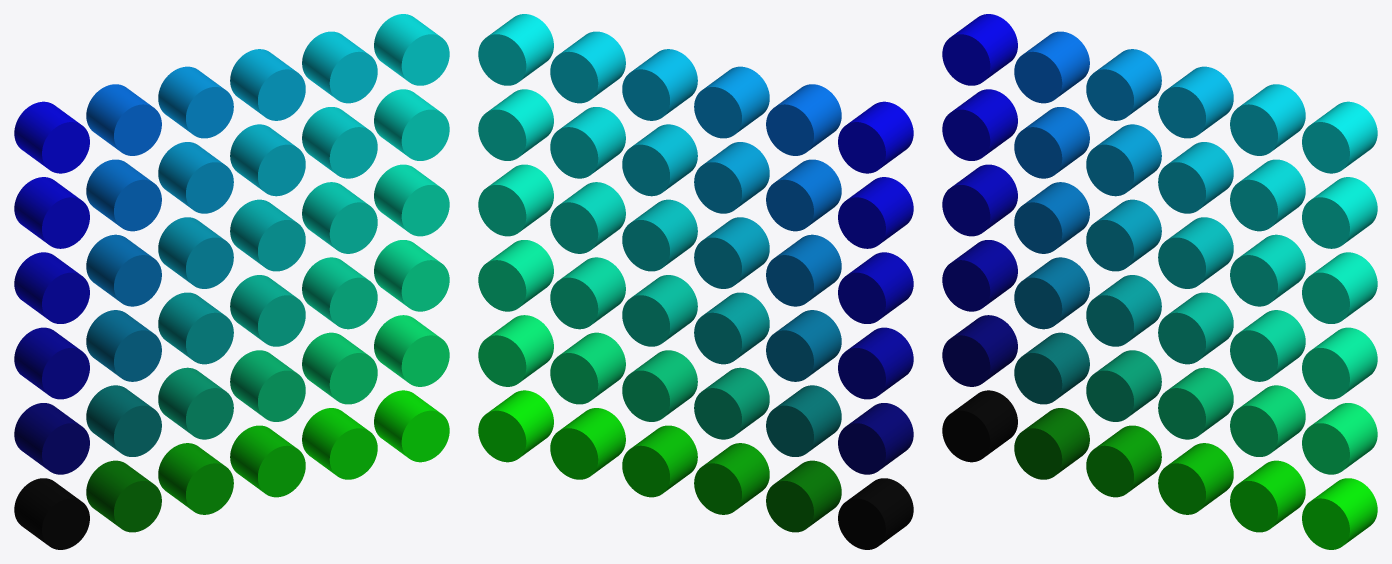
The model's file is serial_test_example_fn_std-appearance-hexString2_output.glb.
3 views of the same model, side by side, from view 1: azimuth 30°, elevation 25°; view 2: azimuth 150°, elevation 25°; view 3: azimuth 330°, elevation 25° (orthographic).
Bounding box in the file's own units: 0.255 × 0.255 × 0.03.
